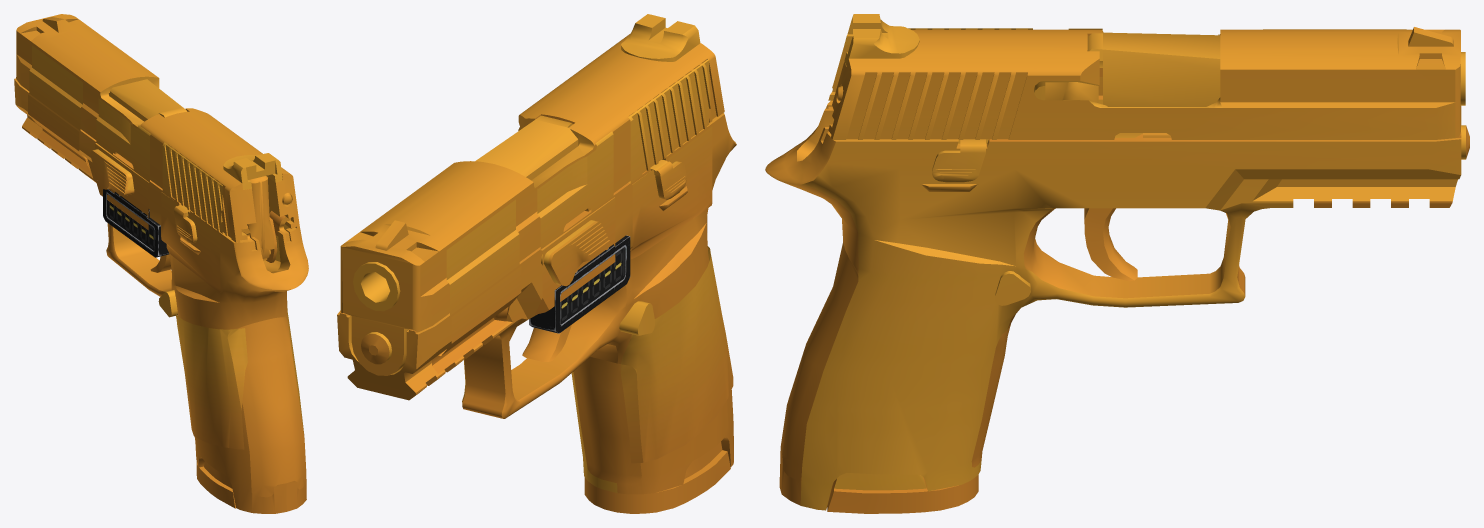
3 views of the same model, side by side, from view 1: azimuth 30°, elevation 25°; view 2: azimuth 150°, elevation 25°; view 3: azimuth 270°, elevation 25° (orthographic). The views are drawn at different scales.
Parts seen in each view (by area): view 1: LOD_Template.001, Gunlock1.001, Sticker4, Sticker3, Sticker2, Sticker1, StatTrack.003, Magazine2; view 2: LOD_Template.001, Gunlock1.001, Sticker4, Sticker3, Sticker2, Sticker1, StatTrack.003, Magazine1.001, Magazine2; view 3: LOD_Template.001, Gunlock1.001, Magazine1.001.
Boxes of the visible parts, x1,y1,x2,y2 form: LOD_Template.001: (14,77,308,513); Gunlock1.001: (16,14,299,242); Sticker4: (176,314,247,449); Sticker3: (161,142,222,292); Sticker2: (90,97,150,229); Sticker1: (28,45,90,173); StatTrack.003: (103,189,169,257); Magazine2: (197,461,235,508); LOD_Template.001: (337,113,736,494); Gunlock1.001: (340,14,724,375); Sticker4: (620,246,733,463); Sticker3: (628,59,712,259); Sticker2: (535,131,615,314); Sticker1: (432,199,521,373); StatTrack.003: (529,235,630,333); Magazine1.001: (584,444,727,513); Magazine2: (617,442,730,510); LOD_Template.001: (765,32,1469,510); Gunlock1.001: (828,14,1460,139); Magazine1.001: (827,139,988,513).
Bounding box in the file's own units: 0.0865 × 0.3163 × 0.437.
Materials: 6 (6 with a texture image).
